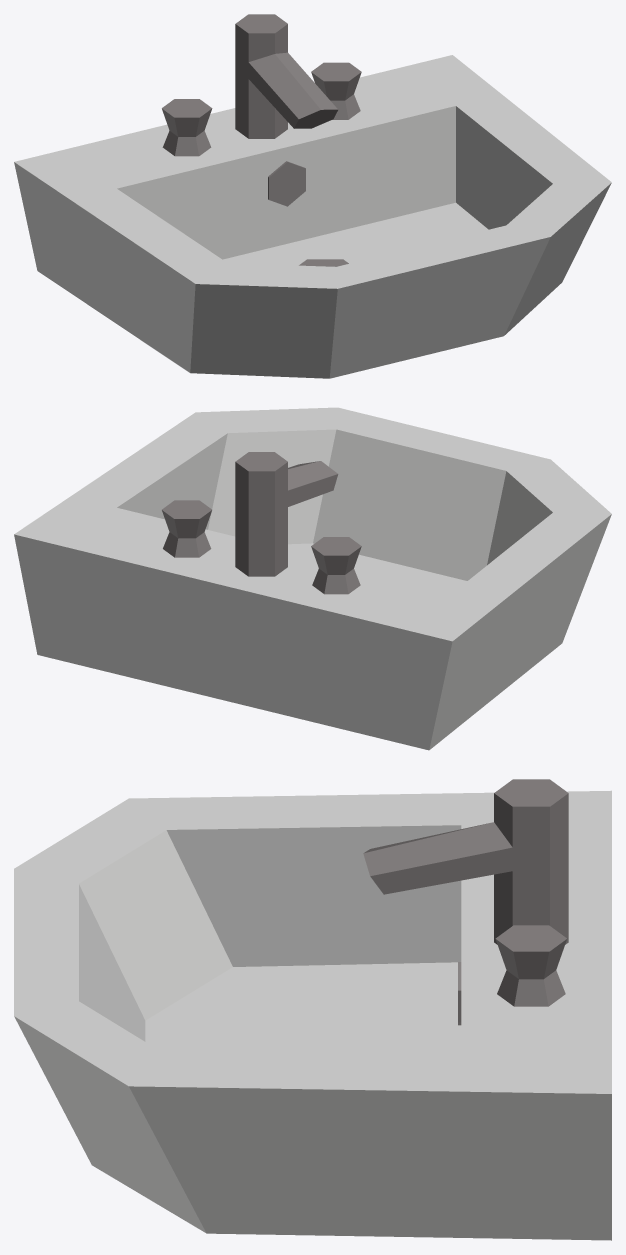
File: wash-basin.glb
The picture shows the model from 3 angles, top to bottom: view 1: azimuth 30°, elevation 25°; view 2: azimuth 150°, elevation 25°; view 3: azimuth 270°, elevation 25°; orthographic projection. The views are drawn at different scales.
Parts seen in each view (by area): view 1: wash-basin; view 2: wash-basin; view 3: wash-basin.
Part boxes in pixels (x1,y1,x2,y2): wash-basin: [14, 14, 611, 378]; wash-basin: [14, 407, 611, 750]; wash-basin: [14, 779, 611, 1240].
Bounding box in the file's own units: 0.6 × 0.2877 × 0.5.
1 material, 1 textured.
